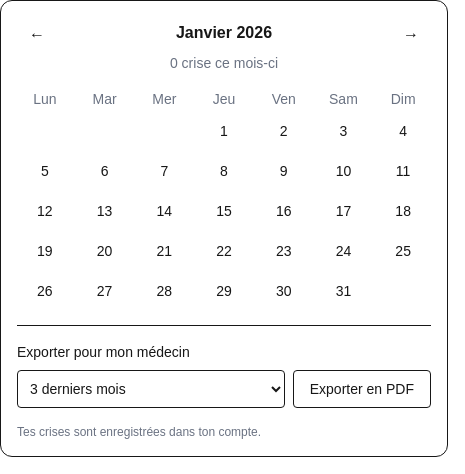
navigation › passe de janvier à décembre de l'année précédente
The image size is (465, 474).
Click the button named "Mois précédent": point(37, 33) [17,17,57,49]
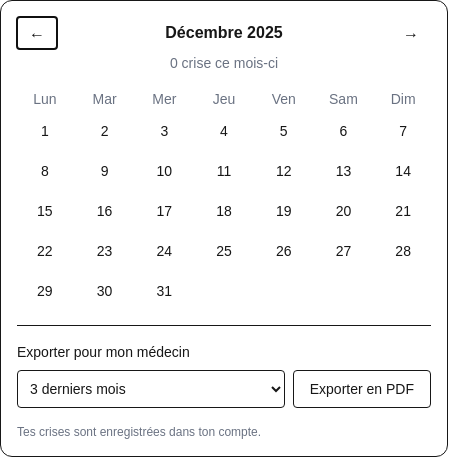
Result: the heading "Décembre 2025" is shown at [165,21,283,45]
